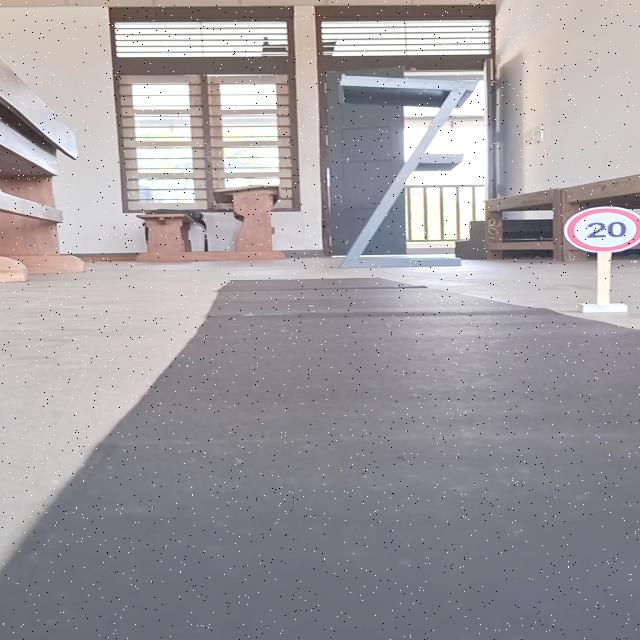Speed20: (557, 202, 640, 255)
